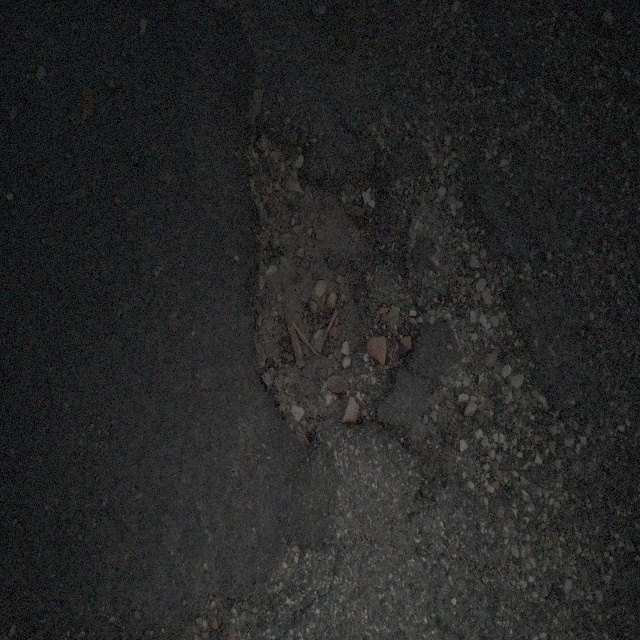pothole: (241, 115, 432, 452)
